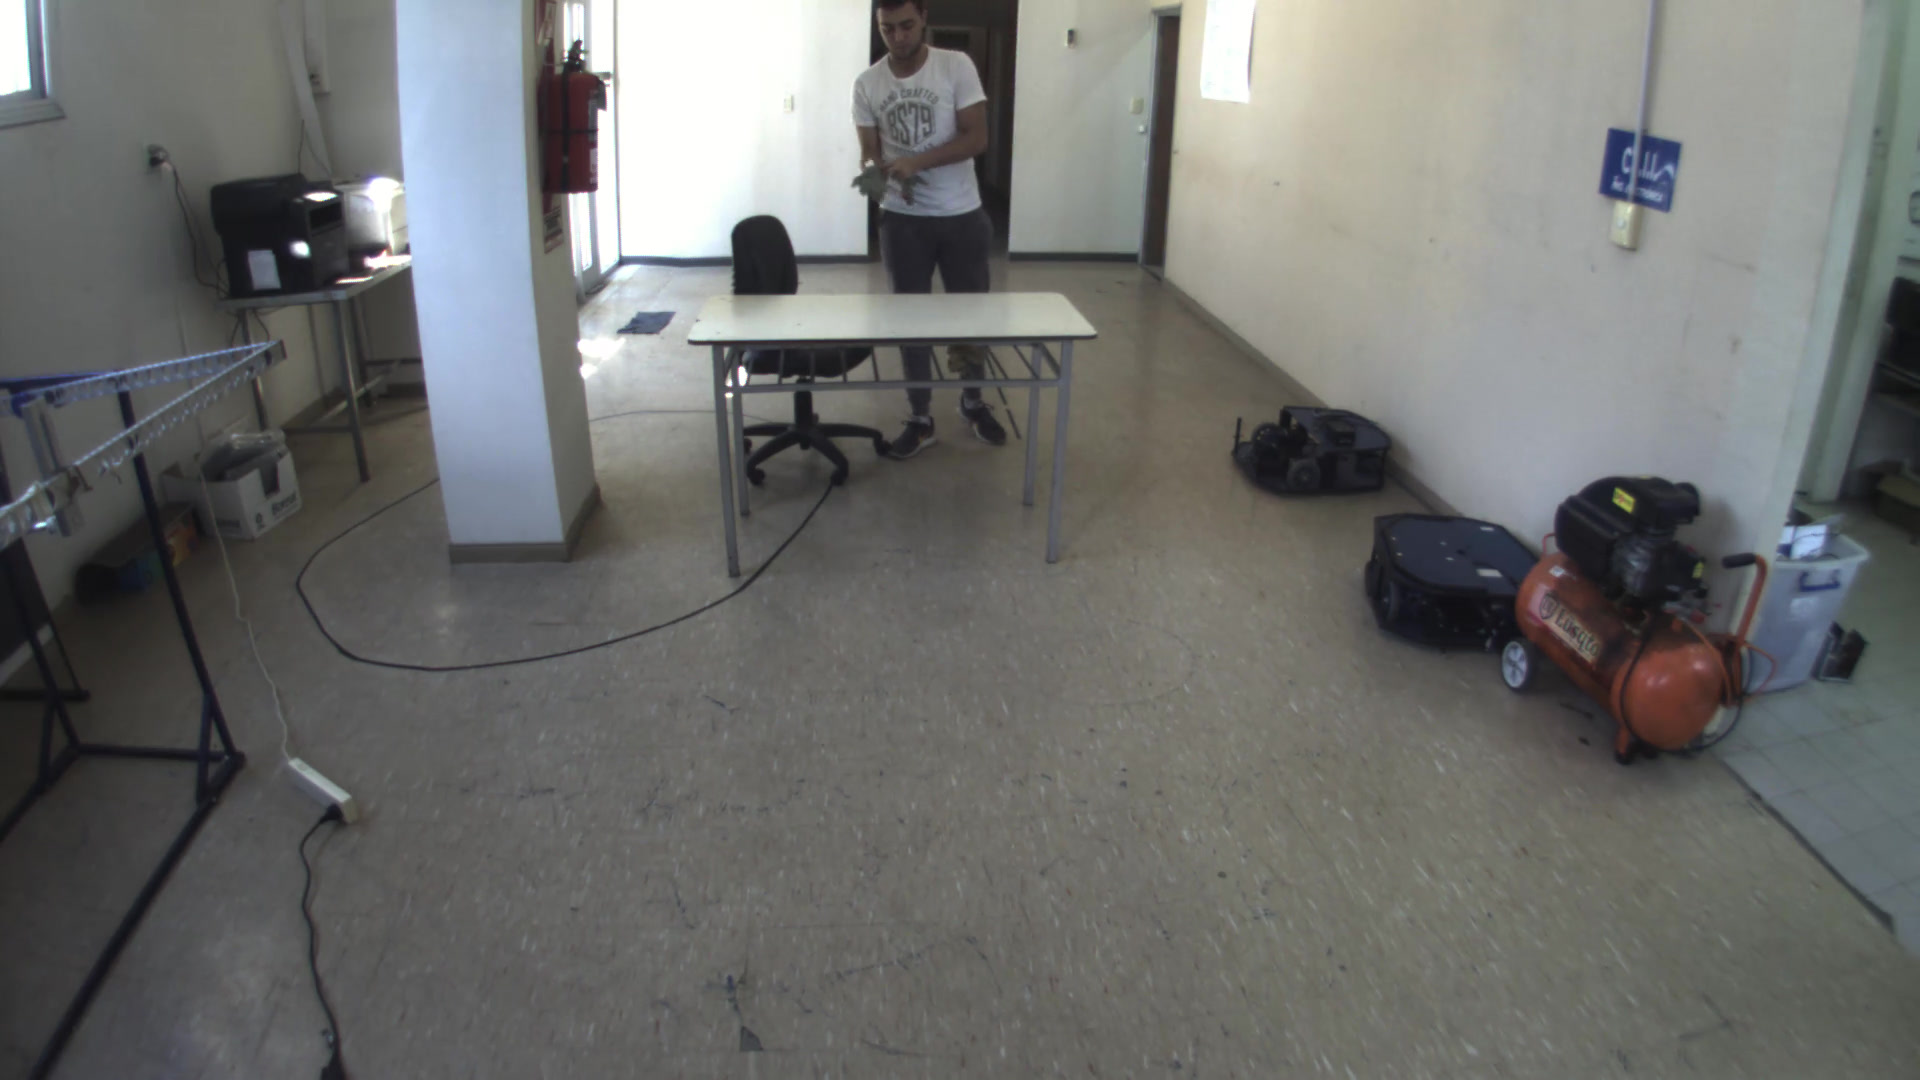hand: (880, 137, 928, 187), (852, 156, 895, 210)
